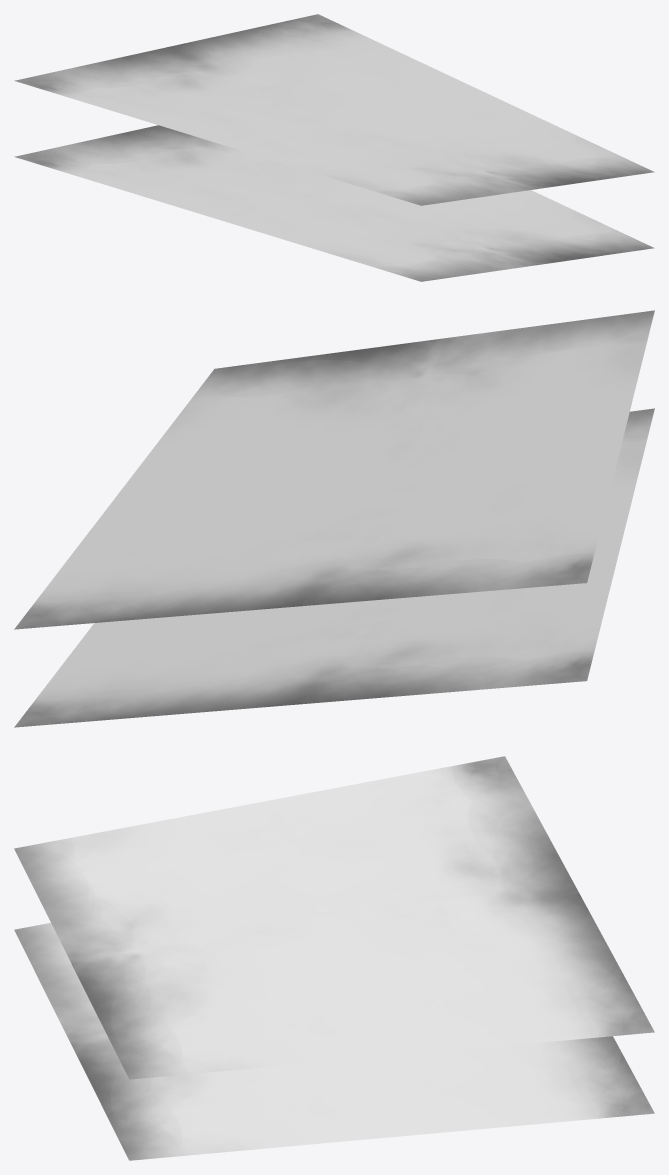
The model's file is CourseWinter_CurveFloor_2_4.fbx.
The picture shows the model from 3 angles, top to bottom: view 1: azimuth 30°, elevation 25°; view 2: azimuth 150°, elevation 25°; view 3: azimuth 270°, elevation 25°; orthographic projection. The views are drawn at different scales.
Parts seen in each view (by area): view 1: polySurface634; view 2: polySurface634; view 3: polySurface634.
Boxes of the visible parts, x1=… form: polySurface634: x1=14, y1=14, x2=654, y2=281; polySurface634: x1=14, y1=310, x2=654, y2=727; polySurface634: x1=14, y1=756, x2=654, y2=1160.
Size of the model in its own units: 6.4 by 2 by 7.16.
1 material, 1 textured.
